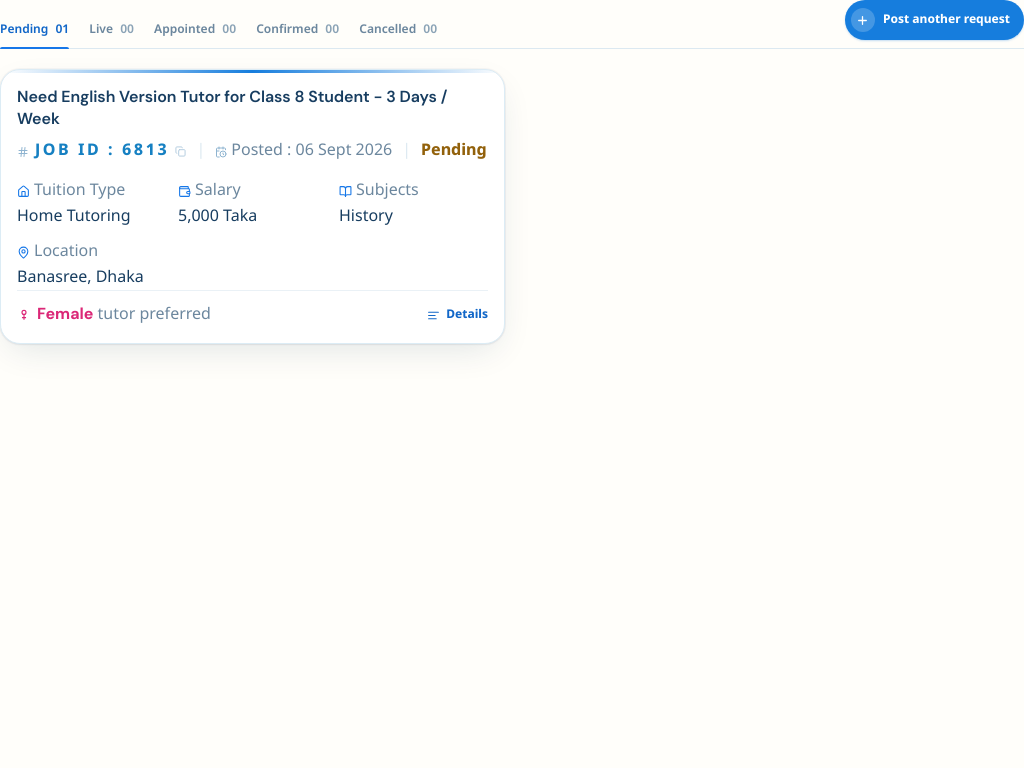
Scenario: the Tutoring Time a Guardian asked for › leaves the row out of the dialog when the request's time is null
This screenshot has width=1024, height=768.
Click the button named "Job ID 6813" at (252, 206), box [0,69,505,344]
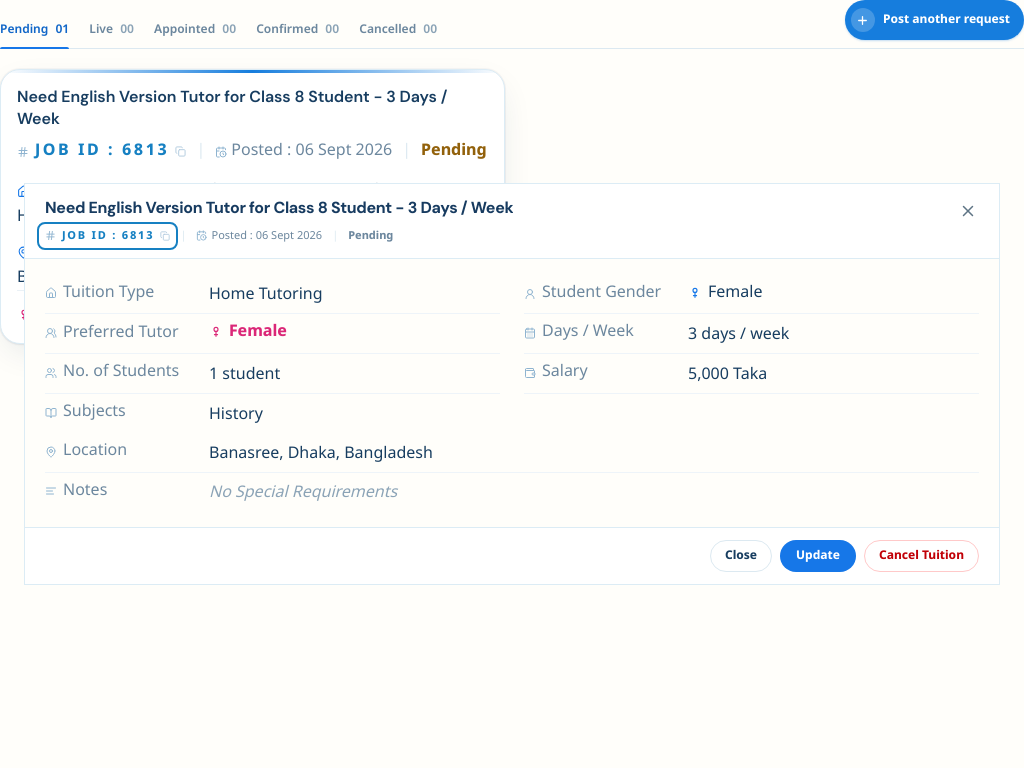
Result: the text "Days / Week" is shown at [524,321,634,343]
